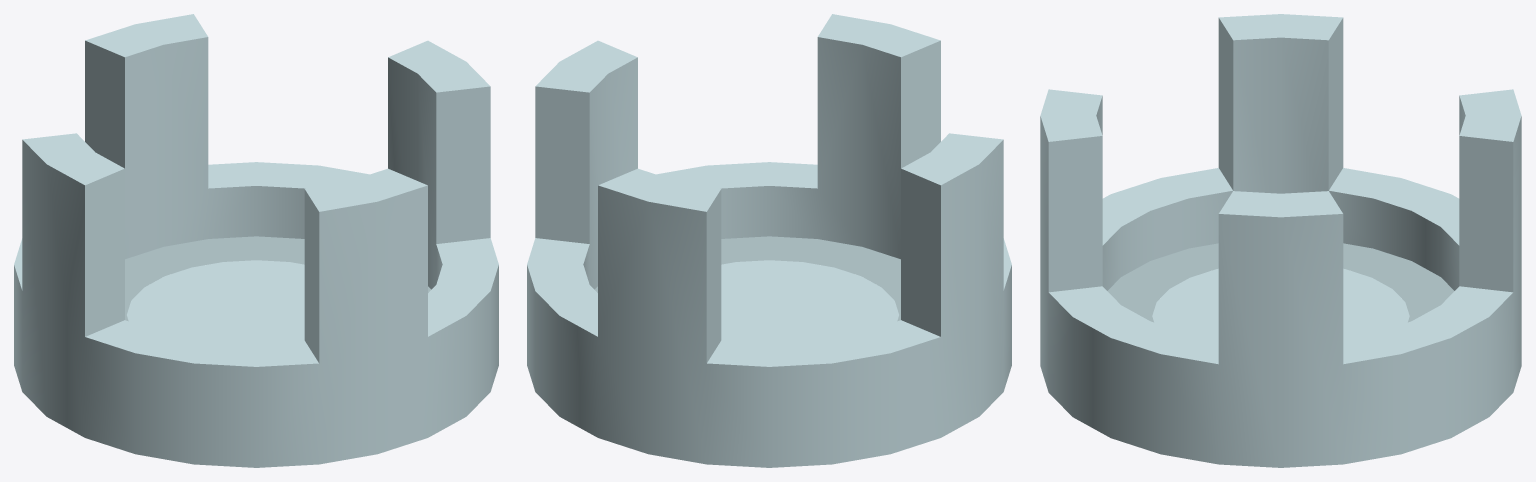
The model's file is towerRound_middleC.glb.
3 renders of one model, left to right at view 1: azimuth 30°, elevation 25°; view 2: azimuth 150°, elevation 25°; view 3: azimuth 270°, elevation 25°, orthographic.
Visible parts, largest first — view 1: towerRound_middleC; view 2: towerRound_middleC; view 3: towerRound_middleC.
Part boxes in pixels (box(x1,y1,x2,y2)): towerRound_middleC: box(14, 14, 498, 467); towerRound_middleC: box(527, 14, 1011, 467); towerRound_middleC: box(1040, 14, 1521, 467).
Size of the model in its own units: 0.87 by 0.5 by 0.87.
